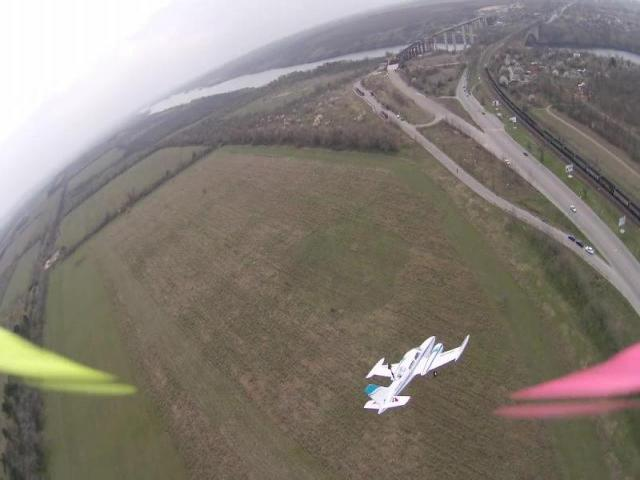hedef: (360, 330, 470, 416)
